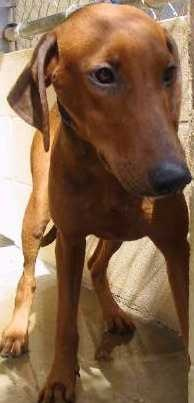Dog: (0, 3, 191, 402)
